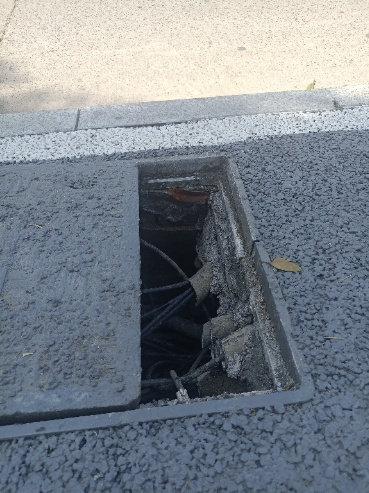uncovered: (2, 151, 312, 440)
